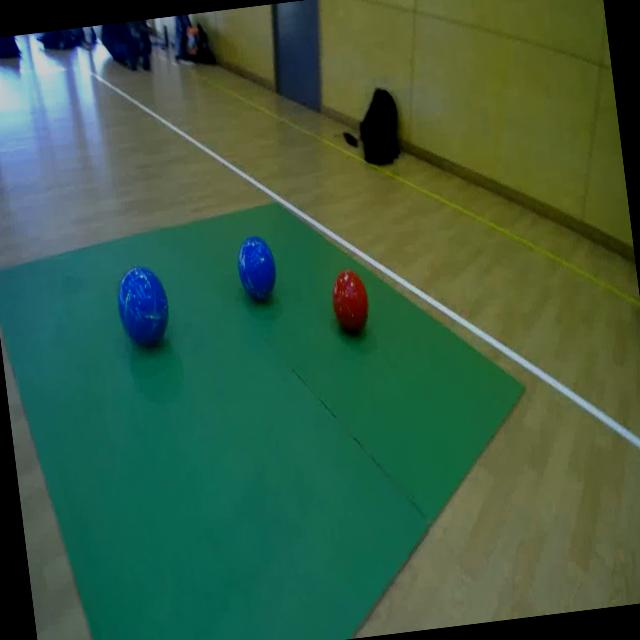blue_ball: (110, 255, 178, 358), (231, 231, 282, 310)
red_ball: (328, 262, 372, 338)
